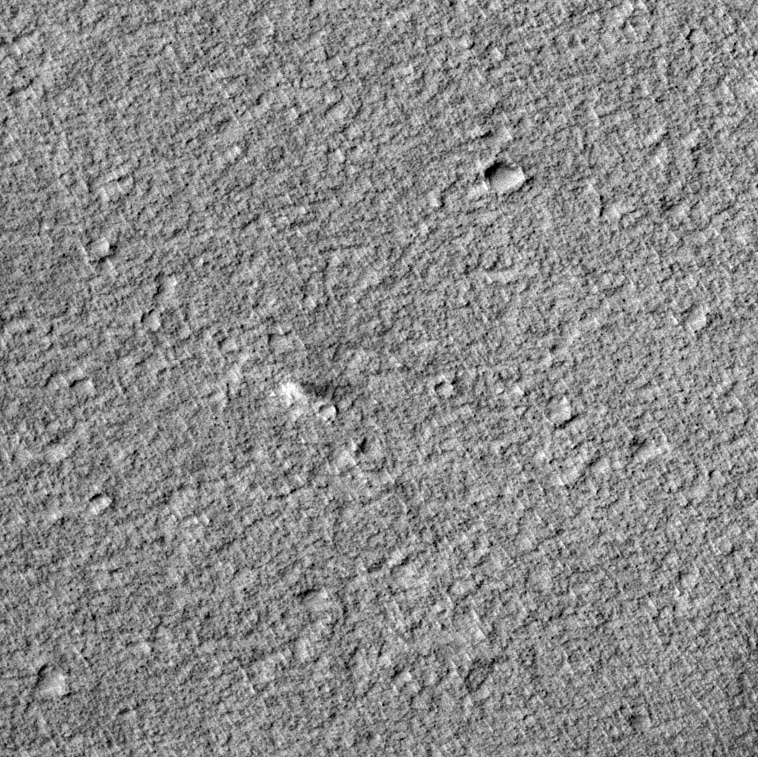dust_devil: (280, 379, 356, 407)
